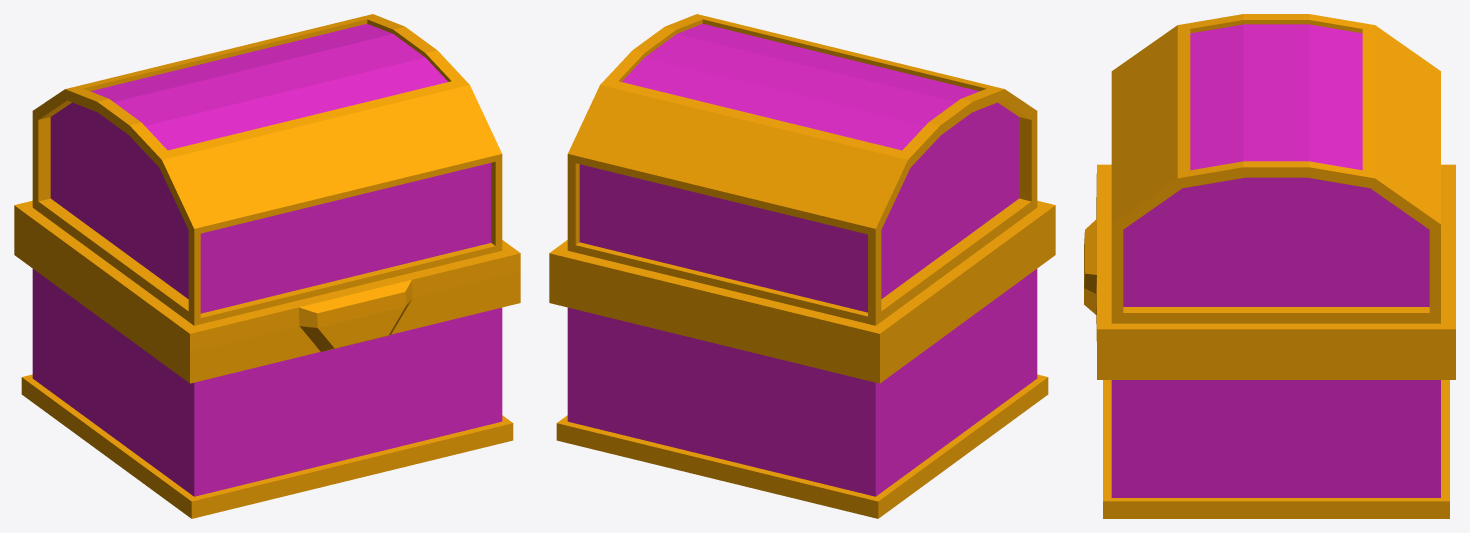
File: SM_Chest.fbx
3 renders of one model, left to right at view 1: azimuth 30°, elevation 25°; view 2: azimuth 150°, elevation 25°; view 3: azimuth 270°, elevation 25°, orthographic. The views are drawn at different scales.
Parts seen in each view (by area): view 1: chest_up, chest; view 2: chest_up, chest; view 3: chest_up, chest.
Boxes of the visible parts, x1,y1,x2,y2 form: chest_up: [14, 14, 520, 352]; chest: [14, 224, 520, 518]; chest_up: [549, 14, 1055, 352]; chest: [549, 224, 1055, 518]; chest_up: [1084, 14, 1455, 347]; chest: [1097, 348, 1455, 518].
Bounding box in the file's own units: 46.9 × 46.26 × 44.74.
